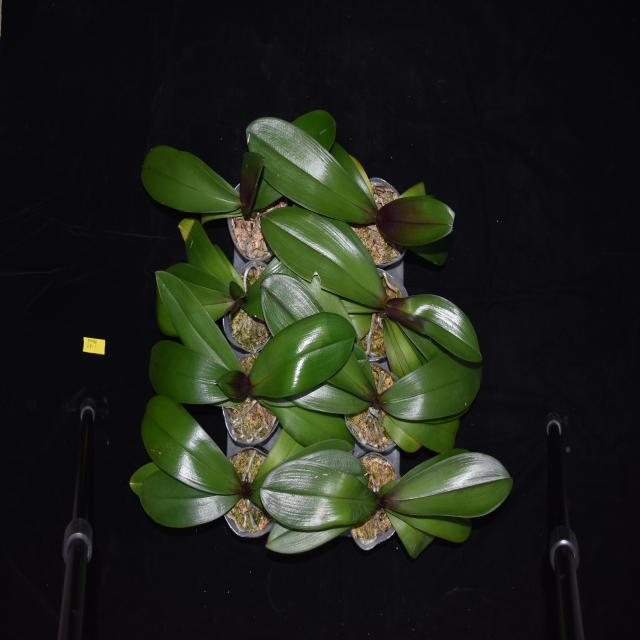leaf: (258, 273, 380, 401), (258, 199, 384, 314), (246, 118, 380, 221), (139, 391, 249, 507), (144, 269, 248, 381), (249, 314, 360, 406), (380, 450, 516, 524), (382, 279, 487, 369), (250, 107, 336, 213), (260, 458, 380, 526), (147, 338, 252, 408), (141, 147, 243, 217), (380, 356, 484, 423), (139, 472, 246, 528), (177, 213, 250, 290), (373, 191, 457, 253), (383, 498, 475, 544), (388, 406, 468, 456), (261, 521, 352, 557), (378, 506, 431, 562), (393, 313, 443, 363), (386, 314, 428, 369), (234, 151, 263, 213), (216, 366, 252, 406), (382, 411, 415, 454), (349, 310, 374, 340), (228, 277, 247, 299), (229, 296, 246, 318)
